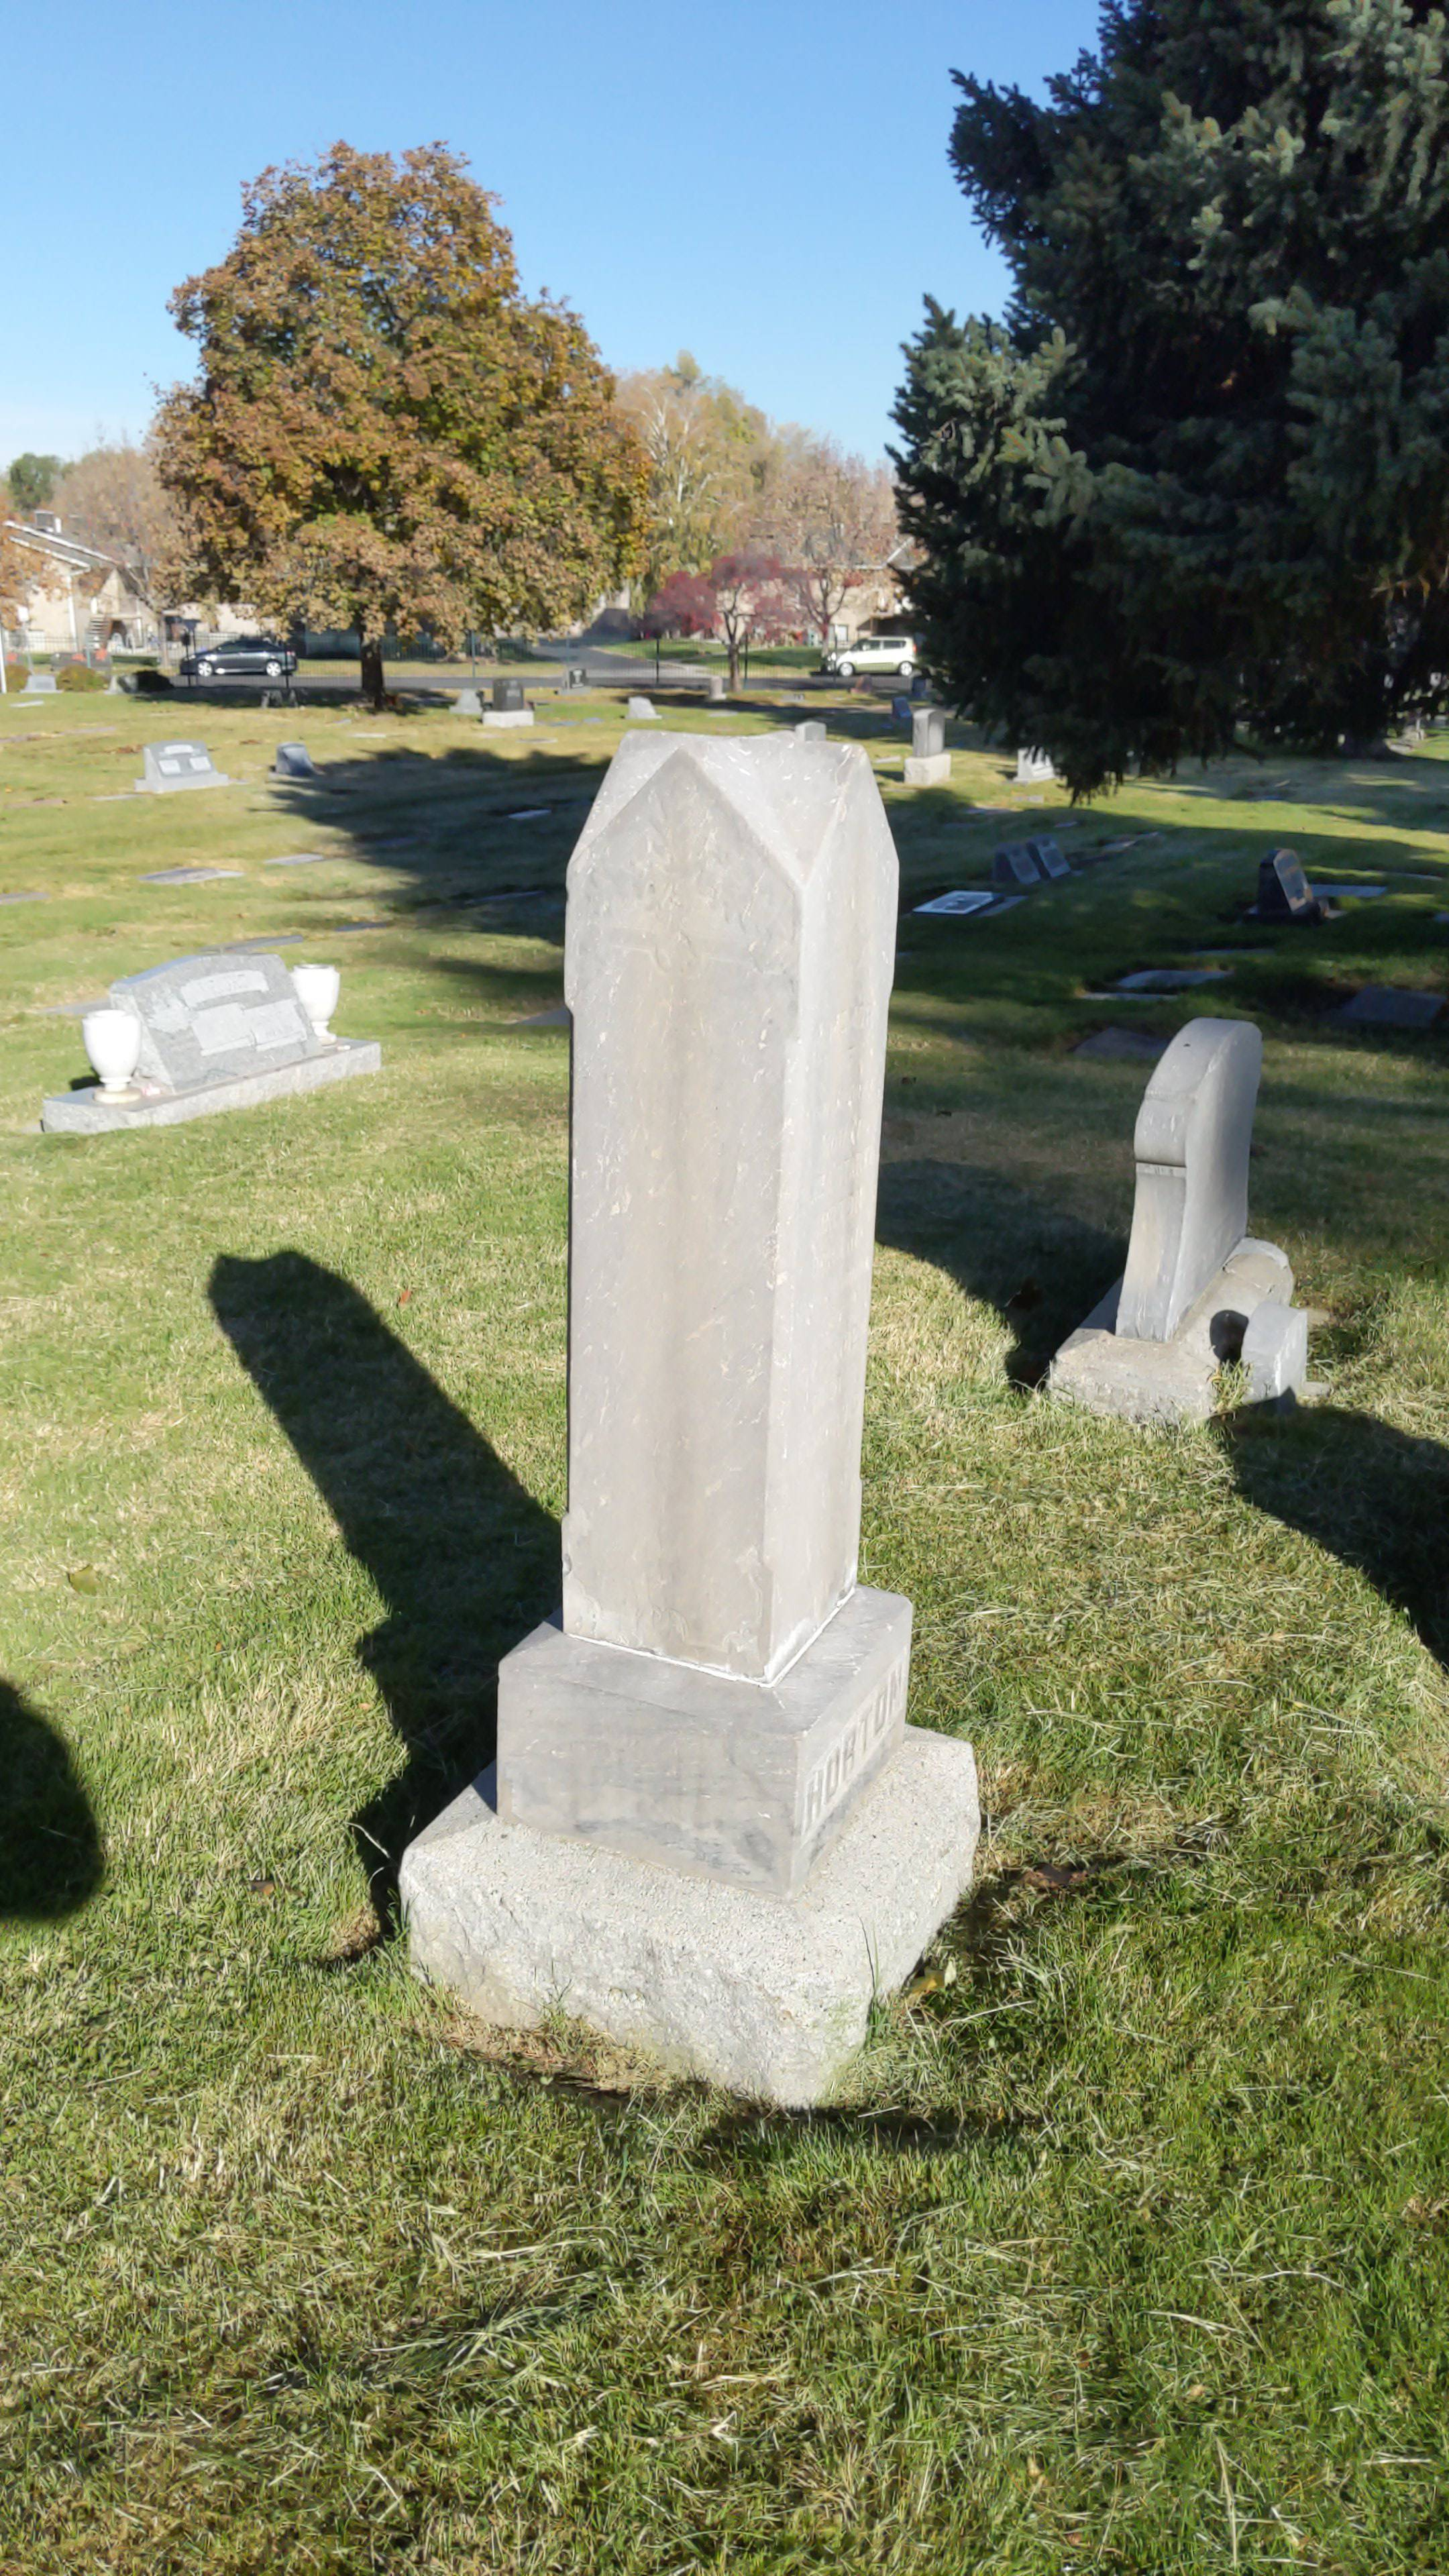obelisk: (501, 718, 918, 1870)
